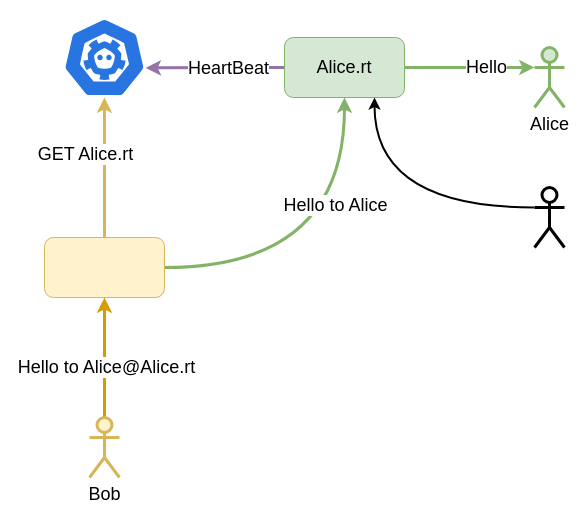
Image size: 586x524. Some labels were removed from this diagram. The centre of each missing label's shape, as x and y in pixels:
"Bob.rt" goes at (104,267).
"Tom" goes at (549,217).
